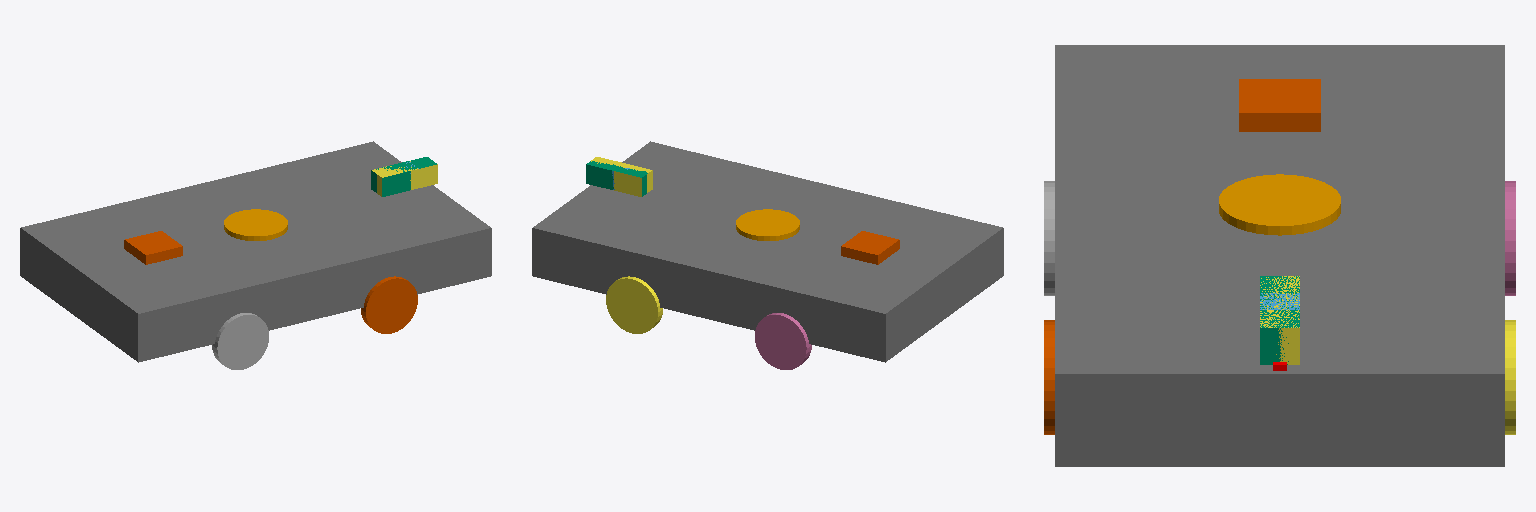
robot.urdf — hamma_bot:
<?xml version="1.0"?>
  <robot name="hamma_bot"
  xmlns:xacro="http://ros.org/wiki/xacro">


  <link name="base_link">
    <visual>
      <origin xyz="0 0 0" rpy="0 0 0"/>
      <geometry>
        <box size="3.8 2.2 0.5"/>
      </geometry>
      <material name="gray">
        <color rgba="0.5 0.5 0.5 1"/>
      </material>
    </visual>
    <collision>
      <origin xyz="0 0 0" rpy="0 0 0"/>
      <geometry>
        <box size="3.8 2.2 0.5"/>
      </geometry>
    </collision>
    <inertial>
      <mass value="10"/>
      <inertia ixx="1" iyy="1" izz="1" ixy="0" ixz="0" iyz="0"/>
    </inertial>
  </link>

  
  <joint name="base_joint" type="fixed">
    <parent link="base_footprint"/>
    <child link="base_link"/>
    <origin xyz="0.0 0.0 1.0" rpy="0 0 0"/>
  </joint>

  <link name="base_footprint" />

  <!-- FRONT LEFT steering -->
  <link name="steer_link_fl">
    <inertial>
      <origin xyz="0 0 0" rpy="0 0 0"/>
      <mass value="0.1"/>
      <inertia ixx="0.0001" ixy="0.0" ixz="0.0" iyy="0.0001" iyz="0.0" izz="0.0001"/>
    </inertial>
  </link>
  
  <joint name="front_left_steering_joint" type="revolute">
    <parent link="base_link"/>
    <child link="steer_link_fl"/>
    <origin xyz="0.8 1.1 -0.28" rpy="0 0 0"/>
    <axis xyz="0 0 1"/>
    <limit lower="-0.6" upper="0.6" effort="10" velocity="1"/>
  </joint>

  <link name="wheel_fl">
    <visual>
      <geometry>
        <cylinder radius="0.28" length="0.1"/>
      </geometry>
    </visual>
    <collision>
      <geometry>
        <cylinder radius="0.28" length="0.1"/>
      </geometry>
    </collision>
    <inertial>
      <mass value="1"/>
      <inertia ixx="0.1" iyy="0.1" izz="0.1" ixy="0" ixz="0" iyz="0"/>
    </inertial>
  </link>

  <joint name="front_left_wheel_joint" type="continuous">
    <parent link="steer_link_fl"/>
    <child link="wheel_fl"/>
    <origin xyz="0 0 0" rpy="1.5708 0 0"/>
    <axis xyz="0 0 1"/>
  </joint>

  <!-- FRONT RIGHT steering -->
  <link name="steer_link_fr">
    <inertial>
    <origin xyz="0 0 0" rpy="0 0 0"/>
    <mass value="0.1"/>
    <inertia
      ixx="0.0001" ixy="0.0" ixz="0.0"
      iyy="0.0001" iyz="0.0"
      izz="0.0001"/>
    </inertial>
  </link>

  <joint name="front_right_steering_joint" type="revolute">
    <parent link="base_link"/>
    <child link="steer_link_fr"/>
    <origin xyz="0.8 -1.1 -0.28" rpy="0 0 0"/>
    <axis xyz="0 0 1"/>
    <limit lower="-0.6" upper="0.6" effort="10" velocity="1"/>
  </joint>

  <link name="wheel_fr">
    <visual>
      <geometry>
        <cylinder radius="0.28" length="0.1"/>
      </geometry>
    </visual>
    <collision>
      <geometry>
        <cylinder radius="0.28" length="0.1"/>
      </geometry>
    </collision>
    <inertial>
      <mass value="1"/>
      <inertia ixx="0.1" iyy="0.1" izz="0.1" ixy="0" ixz="0" iyz="0"/>
    </inertial>
  </link>

  <joint name="front_right_wheel_joint" type="continuous">
    <parent link="steer_link_fr"/>
    <child link="wheel_fr"/>
    <origin xyz="0 0 0" rpy="1.5708 0 0"/>
    <axis xyz="0 0 1"/>
  </joint>

  <!-- REAR LEFT -->
  <link name="wheel_rl">
    <visual>
      <geometry>
        <cylinder radius="0.28" length="0.1"/>
      </geometry>
    </visual>
    <collision>
      <geometry>
        <cylinder radius="0.28" length="0.1"/>
      </geometry>
    </collision>
    <inertial>
      <mass value="1"/>
      <inertia ixx="0.1" iyy="0.1" izz="0.1" ixy="0" ixz="0" iyz="0"/>
    </inertial>
  </link>
  
  <joint name="rear_left_wheel_joint" type="continuous">
    <parent link="base_link"/>
    <child link="wheel_rl"/>
    <origin xyz="-0.8 1.1 -0.28" rpy="1.5708 0 0"/>
    <axis xyz="0 0 1"/>
  </joint>


  <!-- REAR RIGHT -->
  <link name="wheel_rr">
    <visual>
      <geometry>
        <cylinder radius="0.28" length="0.1"/>
      </geometry>
    </visual>
    <collision>
      <geometry>
        <cylinder radius="0.28" length="0.1"/>
      </geometry>
    </collision>
    <inertial>
      <mass value="1"/>
      <inertia ixx="0.1" iyy="0.1" izz="0.1" ixy="0" ixz="0" iyz="0"/>
    </inertial>
  </link>

  <joint name="rear_right_wheel_joint" type="continuous">
    <parent link="base_link"/>
    <child link="wheel_rr"/>
    <origin xyz="-0.8 -1.1 -0.28" rpy="1.5708 0 0"/>
    <axis xyz="0 0 1"/>
  </joint>

  <!-- Sensors -->

  <!-- Lidar -->

  <link name="lidar_link">
    <visual>
      <geometry>
        <cylinder radius="0.3" length="0.1"/>
      </geometry>
    </visual>
  </link>

  <joint name="base_link_to_lidar" type="fixed">
    <parent link="base_link"/>
    <child link="lidar_link"/>
    <origin xyz="0 0 0.25" rpy="0 0 0"/>
  </joint>

  <!-- Camera Frame -->

  <link name="camera_frame">
    <visual>
      <geometry>
        <box size="0.2 0.2 0.2"/>
      </geometry>
    </visual>
  </link>

  <joint name="base_link_to_camera_frame" type="fixed">
    <parent link="base_link"/>
    <child link="camera_frame"/>
    <origin xyz="1.6 0 0.4" rpy="0 0 0"/>
  </joint>

  <!-- Camera -->
  <link name="camera_link_right">
    <visual>
      <geometry>
        <box size="0.2 0.6 0.2"/>
      </geometry>
    </visual>
  </link>

  <joint name="camera_joint_right" type="fixed">
    <parent link="base_link"/>
    <child link="camera_link_right"/>
    <origin xyz="1.6 0 0.4" rpy="0 0 1.5708"/>
  </joint>

  <link name="camera_link_left">
    <visual>
      <geometry>
        <box size="0.2 0.6 0.2"/>
      </geometry>
    </visual>
  </link>

  <joint name="camera_joint_left" type="fixed">
    <parent link="base_link"/>
    <child link="camera_link_left"/>
    <origin xyz="1.6 0 0.4" rpy="0 0 -1.5708"/>
  </joint>

  <!-- Top Camera Link (front of robot, pointing forward) -->
  <link name="camera_front_link">
    <visual>
      <geometry>
        <box size="0.07 0.07 0.03"/>
      </geometry>
      <material name="red">
        <color rgba="1 0 0 1"/>
      </material>
    </visual>
  </link>

  <joint name="camera_top_joint" type="fixed">
    <parent link="base_link"/>
    <child link="camera_front_link"/>
    <origin xyz="1.9 0 0.3" rpy="0 0 0"/>
  </joint>

  <!-- IMU -->

  <link name="imu_link">
    <visual>
      <geometry>
        <box size="0.4 0.4 0.3"/>
      </geometry>
    </visual>
  </link>

  <joint name="base_link_to_imu" type="fixed">
    <parent link="base_link"/>
    <child link="imu_link"/>
    <origin xyz="-1.1 0 0.2" rpy="0 0 0"/>
  </joint>

  <!-- Gazebo Plugins -->

  <plugin name='ignition::gazebo::systems::Physics' filename='ignition-gazebo-physics-system'/>
  <plugin name='ignition::gazebo::systems::UserCommands' filename='ignition-gazebo-user-commands-system'/>
  <plugin name='ignition::gazebo::systems::SceneBroadcaster' filename='ignition-gazebo-scene-broadcaster-system'/>
  <plugin filename="ignition-gazebo-sensors-system" name="ignition::gazebo::systems::Sensors">
    <render_engine>ogre2</render_engine>
  </plugin>
    
  <gui>
    <camera name='gzclient_camera'>
      <pose>-5.73 3.76 8.10 0 1.1316 -0.4398</pose>
    </camera>
  </gui>

  <gazebo reference="camera_link_right">
    <sensor name="robot_cam_right" type="camera">
      <camera>
        <horizontal_fov>1.047</horizontal_fov>
        <image>
          <width>320</width>
          <height>240</height>
        </image>
        <clip>
          <near>0.1</near>
          <far>100</far>
        </clip>
      </camera>
      <always_on>1</always_on>
      <update_rate>30</update_rate>
      <visualize>true</visualize>
      <topic>robot_cam_right</topic>
      <enable_metrics>true</enable_metrics>
    </sensor>
  </gazebo>

  <gazebo reference="camera_link_left">
    <sensor name="robot_cam_left" type="camera">
      <camera>
        <horizontal_fov>1.047</horizontal_fov>
        <image>
          <width>320</width>
          <height>240</height>
        </image>
        <clip>
          <near>0.1</near>
          <far>100</far>
        </clip>
      </camera>
      <always_on>1</always_on>
      <update_rate>30</update_rate>
      <visualize>true</visualize>
      <topic>robot_cam_left</topic>
      <enable_metrics>true</enable_metrics>
    </sensor>
  </gazebo>





  <gazebo reference="imu_link">
    <sensor name="imu_sensor" type="imu">
      <ignition_frame_id>imu_link</ignition_frame_id>
      <plugin filename="ignition-gazebo-imu-system" name="ignition::gazebo::systems::Imu">
      </plugin>

      <topic>imu</topic>
      <always_on>true</always_on>
      <update_rate>100</update_rate>
      <visualize>true</visualize>
      <imu>
        <angular_velocity>
          <x>
            <noise type="gaussian">
              <mean>0.0</mean>
              <stddev>2e-4</stddev>
              <bias_mean>0.0000075</bias_mean>
              <bias_stddev>0.0000008</bias_stddev>
            </noise>
          </x>
          <y>
            <noise type="gaussian">
              <mean>0.0</mean>
              <stddev>2e-4</stddev>
              <bias_mean>0.0000075</bias_mean>
              <bias_stddev>0.0000008</bias_stddev>
            </noise>
          </y>
          <z>
            <noise type="gaussian">
              <mean>0.0</mean>
              <stddev>2e-4</stddev>
              <bias_mean>0.0000075</bias_mean>
              <bias_stddev>0.0000008</bias_stddev>
            </noise>
          </z>
        </angular_velocity>
        <linear_acceleration>
          <x>
            <noise type="gaussian">
              <mean>0.0</mean>
              <stddev>1.7e-2</stddev>
              <bias_mean>0.1</bias_mean>
              <bias_stddev>0.001</bias_stddev>
            </noise>
          </x>
          <y>
            <noise type="gaussian">
              <mean>0.0</mean>
              <stddev>1.7e-2</stddev>
              <bias_mean>0.1</bias_mean>
              <bias_stddev>0.001</bias_stddev>
            </noise>
          </y>
          <z>
            <noise type="gaussian">
              <mean>0.0</mean>
              <stddev>1.7e-2</stddev>
              <bias_mean>0.1</bias_mean>
              <bias_stddev>0.001</bias_stddev>
            </noise>
          </z>
        </linear_acceleration>
      </imu>
    </sensor>
  </gazebo>


  <ros2_control name="IgnitionSystem" type="system">
  <hardware>
    <plugin>ign_ros2_control/IgnitionSystem</plugin>
  </hardware>

  <!-- Rear driving wheels -->
  <joint name="rear_left_wheel_joint">
    <command_interface name="velocity">
      <param name="min">-100.0</param>
      <param name="max">100.0</param>
    </command_interface>
    <state_interface name="velocity"/>
    <state_interface name="position"/>
  </joint>

  <joint name="rear_right_wheel_joint">
    <command_interface name="velocity">
      <param name="min">-100.0</param>
      <param name="max">100.0</param>
    </command_interface>
    <state_interface name="velocity"/>
    <state_interface name="position"/>
  </joint>

  <!-- Front steering joints -->
  <joint name="front_left_steering_joint">
    <command_interface name="position"/>
    <state_interface name="position"/>
    <state_interface name="velocity"/>
  </joint>

  <joint name="front_right_steering_joint">
    <command_interface name="position"/>
    <state_interface name="position"/>
    <state_interface name="velocity"/>
  </joint>

</ros2_control>

  <gazebo>
    <plugin filename="ign_ros2_control-system" name="ign_ros2_control::IgnitionROS2ControlPlugin">
      <parameters>[local-path]/Desktop/naor/study/Thesis/src/ground_bot/config/ackermann_controller.yaml</parameters>
    </plugin>
  </gazebo>


  <gazebo reference="lidar_link">
    <sensor name="lidar" type="gpu_lidar">
      <ignition_frame_id>lidar_link</ignition_frame_id>
      <topic>scan</topic>
      <always_on>true</always_on>
      <visualize>true</visualize>
      <update_rate>5</update_rate>
      <ray>
        <scan>
          <horizontal>
            <samples>360</samples>
            <resolution>1.000000</resolution>
            <min_angle>0.000000</min_angle>
            <max_angle>6.280000</max_angle>
          </horizontal>
        </scan>
        <range>
          <min>0.120000</min>
          <max>3.5</max>
          <resolution>0.015000</resolution>
        </range>
        <noise>
          <type>gaussian</type>
          <mean>0.0</mean>
          <stddev>0.01</stddev>
        </noise>
      </ray>
    </sensor>
  </gazebo>




</robot>

--- Render facts (derived) ---
The picture shows the robot from 3 angles, left to right: view 1: azimuth 30°, elevation 25°; view 2: azimuth 150°, elevation 25°; view 3: azimuth 270°, elevation 25°; orthographic projection.
Robot: hamma_bot — 14 links, 13 joints (2 revolute, 4 continuous, 7 fixed); root link base_footprint; default pose: all joints at 0.
Links seen in each view (by area): view 1: base_link, wheel_fr, wheel_rr, lidar_link, imu_link, camera_link_right, camera_link_left; view 2: base_link, wheel_fl, wheel_rl, lidar_link, imu_link, camera_link_right, camera_link_left; view 3: base_link, lidar_link, imu_link, camera_link_right, camera_link_left, wheel_fl, wheel_fr, wheel_rl, wheel_rr.
Boxes of the visible links, box(x1,y1,x2,y2) form: base_link: box(20, 141, 491, 362); wheel_fr: box(361, 276, 417, 333); wheel_rr: box(212, 313, 268, 369); lidar_link: box(224, 209, 287, 240); imu_link: box(124, 231, 182, 264); camera_link_right: box(371, 157, 436, 196); camera_link_left: box(372, 161, 437, 196); base_link: box(532, 141, 1003, 362); wheel_fl: box(606, 276, 662, 333); wheel_rl: box(755, 313, 811, 369); lidar_link: box(736, 209, 799, 240); imu_link: box(841, 231, 899, 264); camera_link_right: box(586, 161, 647, 196); camera_link_left: box(591, 157, 652, 196); base_link: box(1055, 45, 1504, 466); lidar_link: box(1219, 174, 1340, 235); imu_link: box(1239, 79, 1320, 131); camera_link_right: box(1260, 276, 1299, 364); camera_link_left: box(1260, 276, 1299, 364); wheel_fl: box(1505, 320, 1515, 434); wheel_fr: box(1044, 320, 1054, 434); wheel_rl: box(1505, 181, 1515, 295); wheel_rr: box(1044, 181, 1054, 295).
Size in the robot's own frame: 3.83 by 2.3 by 1.06 metres.
Geometry: primitives only (box / cylinder / sphere), no mesh files.
